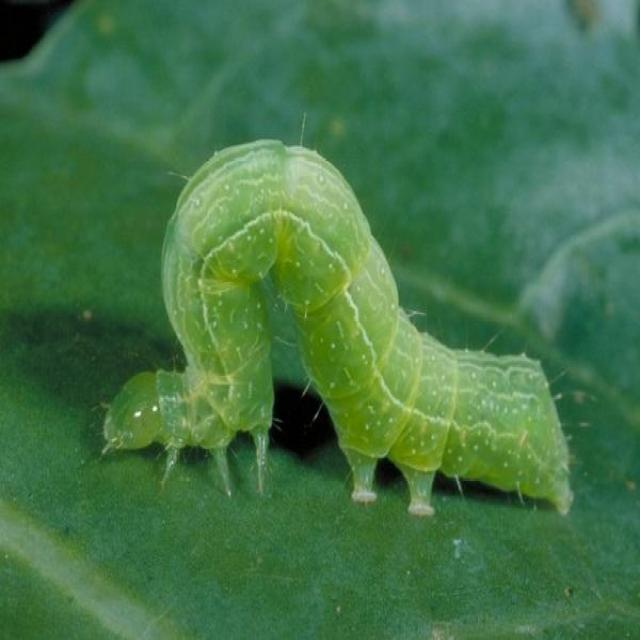looper: (94, 123, 577, 530)
